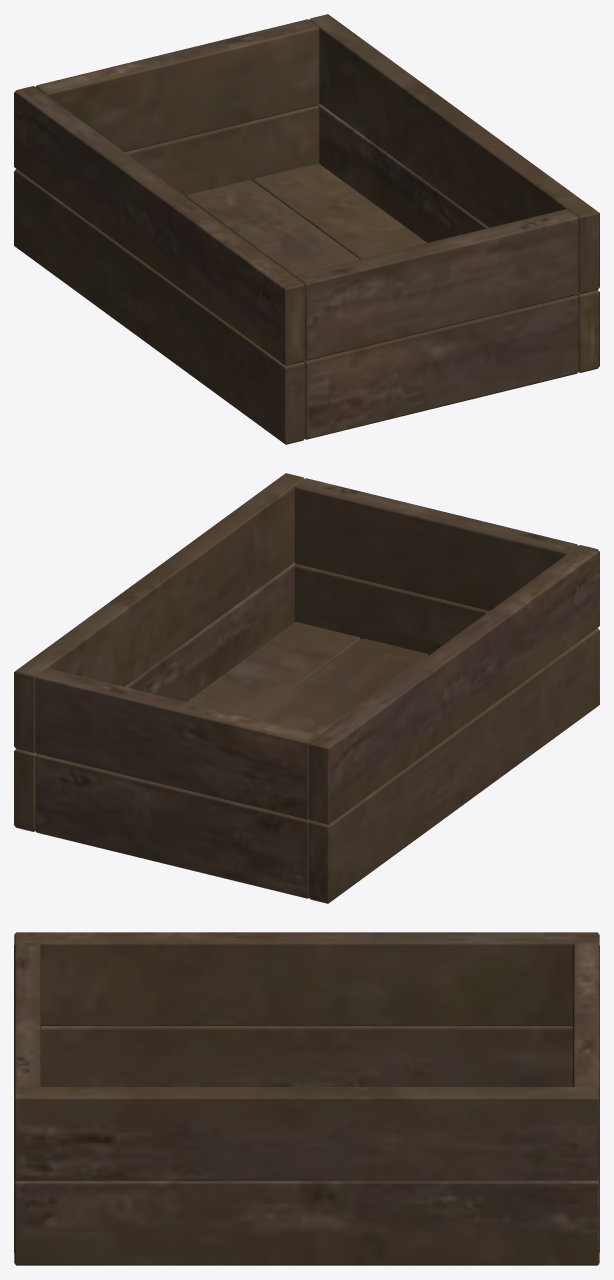
The model's file is CrateEmpty.glb.
The picture shows the model from 3 angles, top to bottom: view 1: azimuth 30°, elevation 25°; view 2: azimuth 150°, elevation 25°; view 3: azimuth 270°, elevation 25°; orthographic projection. The views are drawn at different scales.
Parts seen in each view (by area): view 1: Crate Empty; view 2: Crate Empty; view 3: Crate Empty.
Boxes of the visible parts, box(x1,y1,x2,y2) form: Crate Empty: box(14, 14, 599, 444); Crate Empty: box(14, 473, 599, 903); Crate Empty: box(14, 932, 599, 1265).
Size of the model in its own units: 0.4866 by 0.2312 by 0.7246.
1 material, 1 textured.
